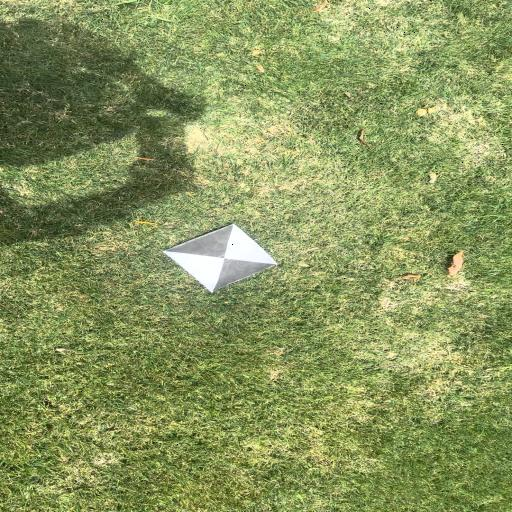target: (162, 224, 278, 292)
